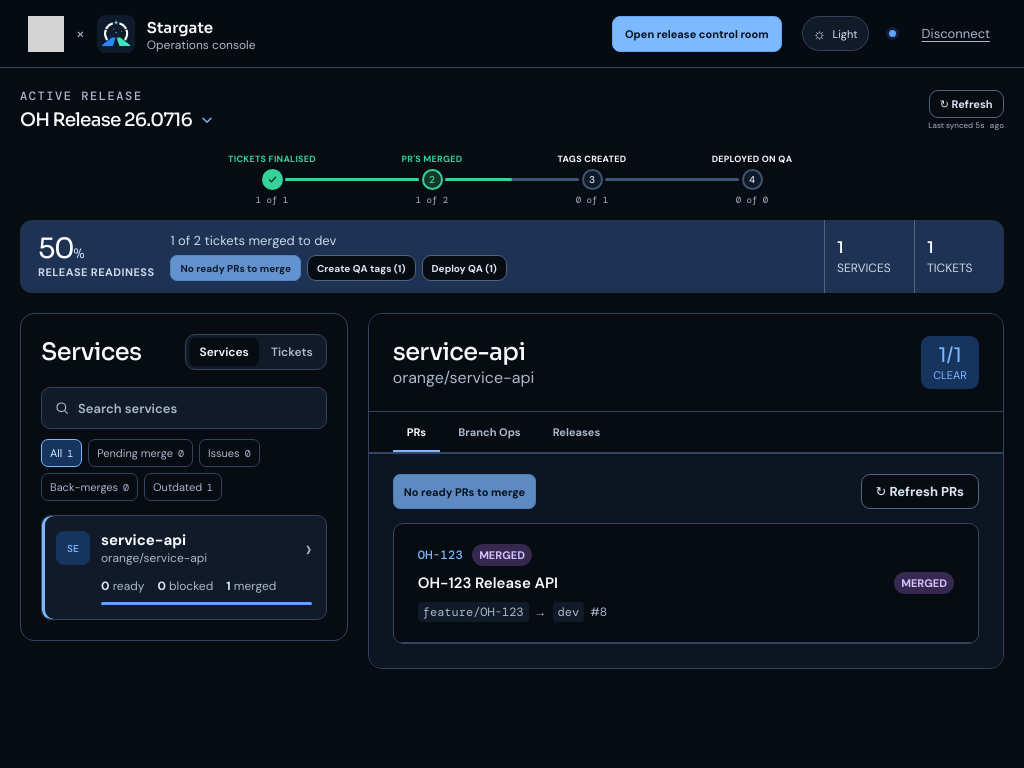
Scenario: ReleaseOverview › opens bulk QA deploy for merged services with a successful tag
The width and height of the screenshot is (1024, 768).
Click the button with aria-label "Deploy QA for all merged services in this release".
click(464, 268)  # box [422,255,507,281]
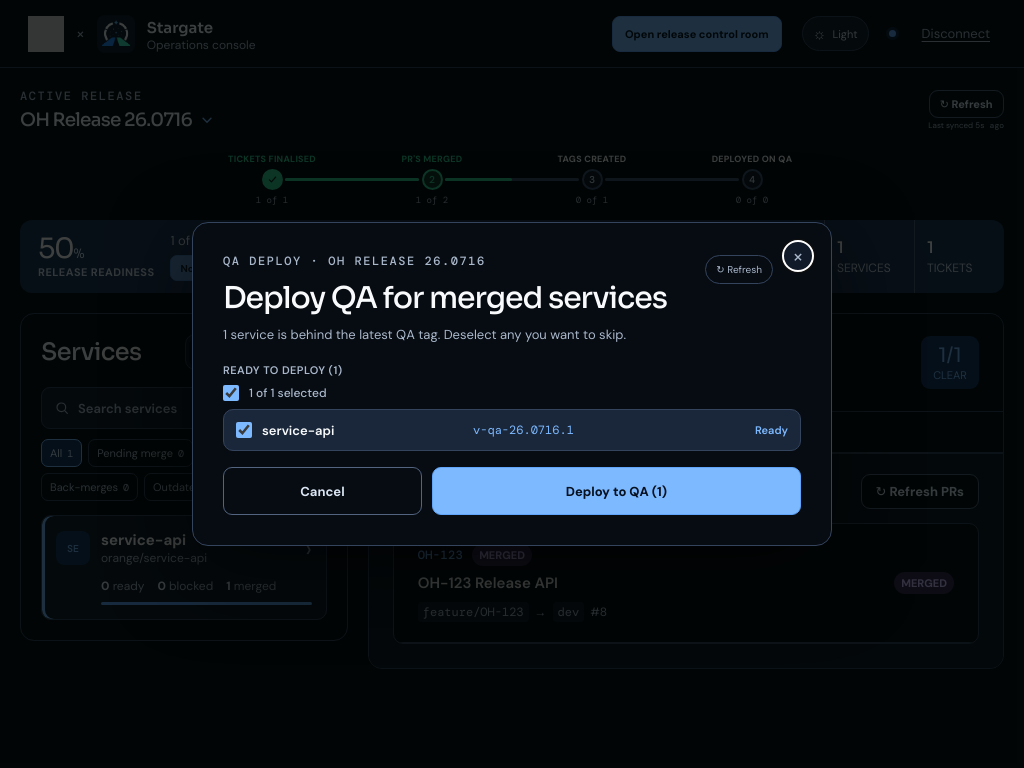
Check: the heading "Deploy QA for merged services" is shown, box [223,279,667,317]
Check: the link "v-qa-26.0716.1" is shown, box [473,422,574,438]
